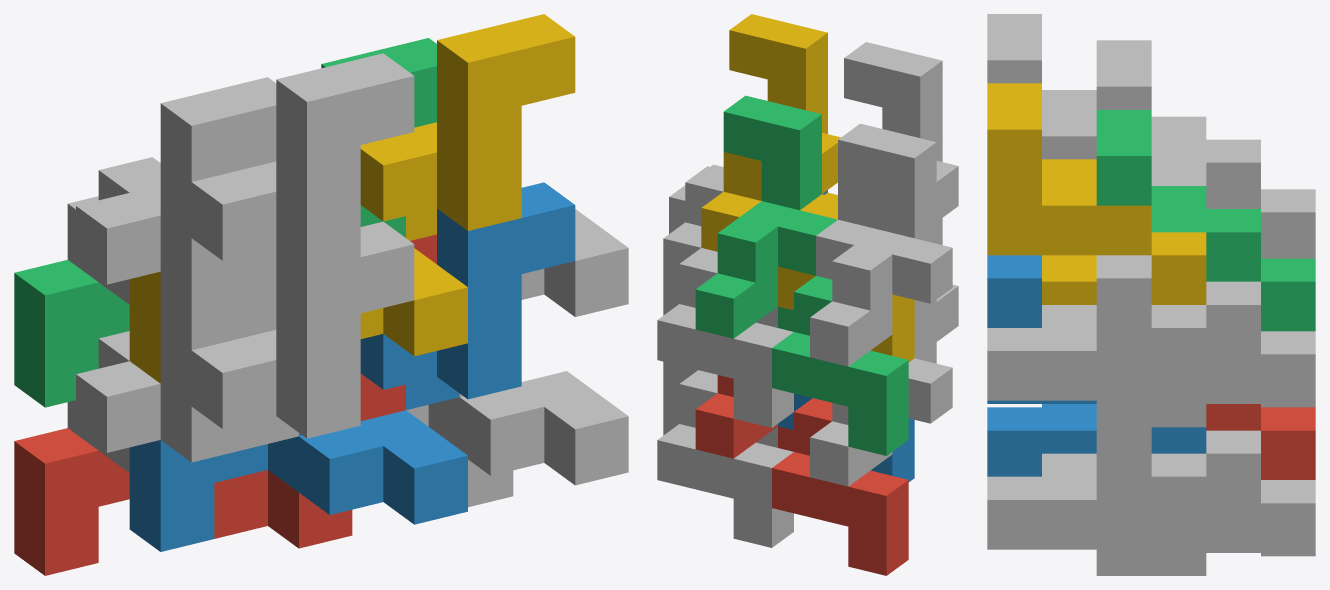
File: tiling.obj
3 renders of one model, left to right at view 1: azimuth 30°, elevation 25°; view 2: azimuth 150°, elevation 25°; view 3: azimuth 270°, elevation 25°, orthographic. The views are drawn at different scales.
Parts seen in each view (by area): view 1: copy_2_domain_4, copy_2_domain_8, copy_2_domain_2, copy_1_domain_2, copy_2_domain_3, copy_2_domain_6, copy_2_domain_1, copy_1_domain_1, copy_1_domain_6, copy_1_domain_3, copy_1_domain_4, copy_1_domain_8 (+3 smaller); view 2: copy_2_domain_3, copy_2_domain_7, copy_2_domain_4, copy_2_domain_8, copy_1_domain_3, copy_1_domain_1, copy_1_domain_7, copy_1_domain_5, copy_2_domain_1, copy_1_domain_8, copy_2_domain_5, copy_1_domain_4 (+3 smaller); view 3: copy_2_domain_8, copy_1_domain_8, copy_1_domain_6, copy_1_domain_7, copy_1_domain_5, copy_2_domain_7, copy_2_domain_3, copy_2_domain_4, copy_1_domain_2, copy_2_domain_6, copy_2_domain_5, copy_1_domain_4.
Part boxes in pixels (x1=…): copy_2_domain_4: x1=191, y1=53, x2=414, y2=280; copy_2_domain_8: x1=360, y1=14, x2=575, y2=240; copy_2_domain_2: x1=191, y1=221, x2=414, y2=449; copy_1_domain_2: x1=129, y1=410, x2=467, y2=551; copy_2_domain_3: x1=67, y1=77, x2=276, y2=304; copy_2_domain_6: x1=360, y1=182, x2=575, y2=409; copy_2_domain_1: x1=67, y1=272, x2=276, y2=472; copy_1_domain_1: x1=14, y1=428, x2=352, y2=575; copy_1_domain_6: x1=406, y1=371, x2=628, y2=485; copy_1_domain_3: x1=14, y1=259, x2=129, y2=407; copy_1_domain_4: x1=129, y1=248, x2=467, y2=383; copy_1_domain_8: x1=521, y1=209, x2=628, y2=316; copy_2_domain_3: x1=810, y1=123, x2=952, y2=366; copy_2_domain_7: x1=695, y1=95, x2=837, y2=338; copy_2_domain_4: x1=816, y1=42, x2=958, y2=279; copy_2_domain_8: x1=701, y1=14, x2=840, y2=251; copy_1_domain_3: x1=772, y1=276, x2=908, y2=455; copy_1_domain_1: x1=772, y1=398, x2=908, y2=575; copy_1_domain_7: x1=657, y1=248, x2=793, y2=427; copy_1_domain_5: x1=657, y1=370, x2=793, y2=547; copy_2_domain_1: x1=810, y1=299, x2=952, y2=486; copy_1_domain_8: x1=663, y1=164, x2=777, y2=327; copy_2_domain_5: x1=695, y1=375, x2=777, y2=458; copy_1_domain_4: x1=778, y1=192, x2=914, y2=361; copy_2_domain_8: x1=987, y1=83, x2=1206, y2=304; copy_1_domain_8: x1=987, y1=255, x2=1206, y2=400; copy_1_domain_6: x1=987, y1=427, x2=1206, y2=549; copy_1_domain_7: x1=1096, y1=281, x2=1315, y2=427; copy_1_domain_5: x1=1096, y1=430, x2=1315, y2=575; copy_2_domain_7: x1=1096, y1=110, x2=1315, y2=331; copy_2_domain_3: x1=1096, y1=40, x2=1315, y2=258; copy_2_domain_4: x1=987, y1=14, x2=1206, y2=185; copy_1_domain_2: x1=987, y1=404, x2=1096, y2=476; copy_2_domain_6: x1=987, y1=255, x2=1206, y2=453; copy_2_domain_5: x1=1206, y1=404, x2=1315, y2=479; copy_1_domain_4: x1=1042, y1=255, x2=1096, y2=304.
Bounding box in the file's own units: 8 × 10 × 6.
